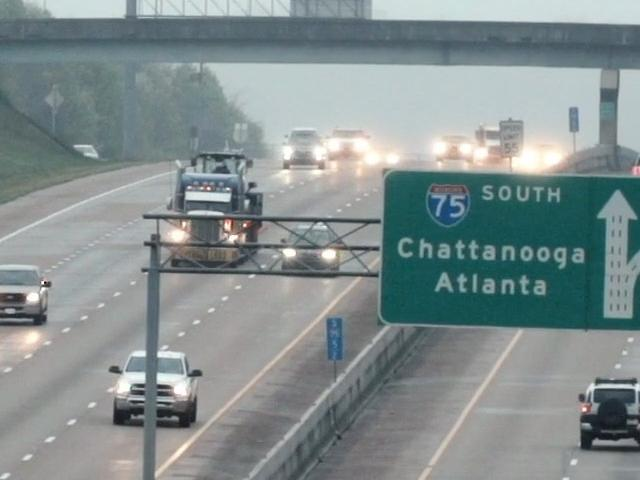car: (162, 148, 257, 273), (115, 352, 202, 430), (581, 383, 640, 450), (0, 260, 56, 328), (277, 217, 342, 275)
